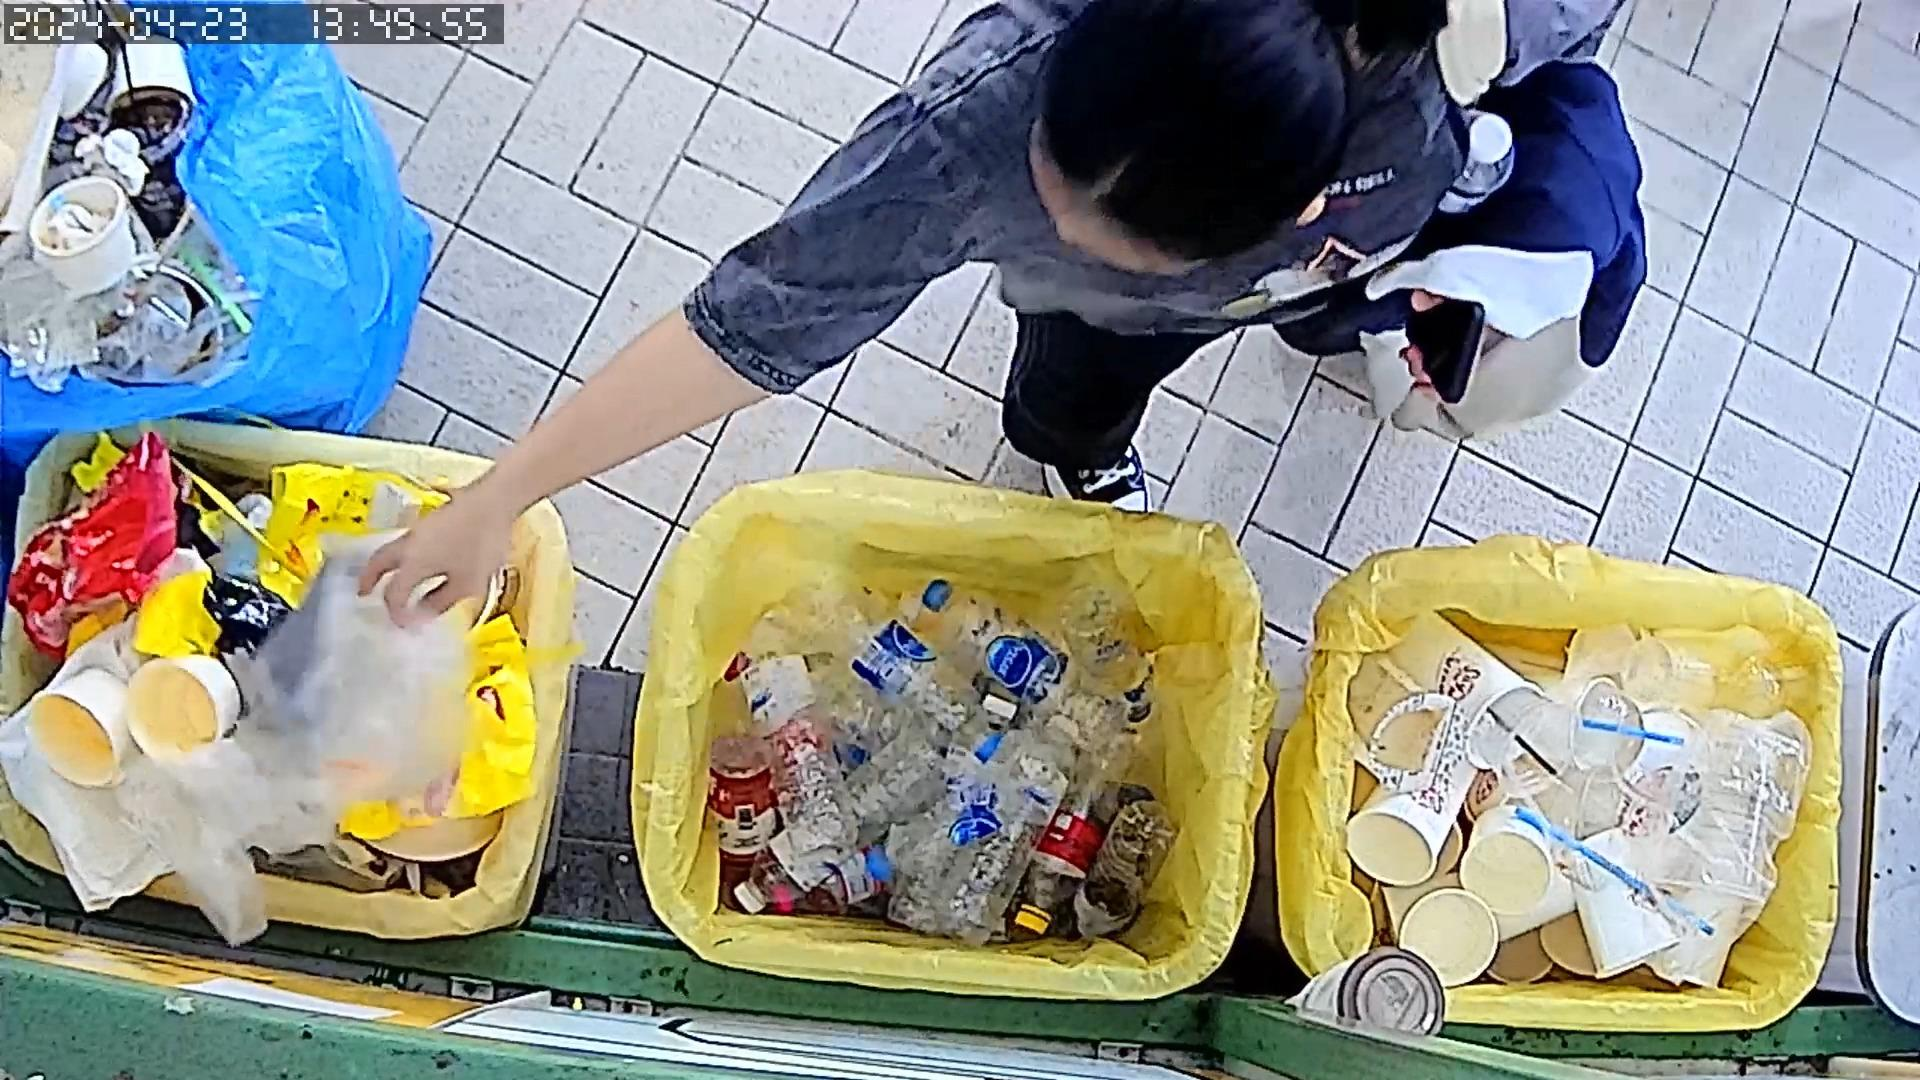can: (711, 736, 771, 861)
filled plastic bag: (236, 583, 483, 829), (1633, 709, 1808, 988)
food container: (29, 663, 149, 791), (145, 658, 272, 770), (1457, 810, 1564, 928), (1387, 884, 1499, 993)
plastic bag: (123, 699, 393, 957)
plastic bottle: (881, 720, 1069, 938), (915, 575, 1129, 753), (725, 737, 935, 918), (833, 600, 1010, 764), (996, 721, 1129, 931), (851, 738, 1079, 829), (1067, 795, 1174, 935), (1060, 583, 1159, 725)
plastic cup: (1340, 649, 1473, 789), (1621, 628, 1787, 713), (1476, 686, 1581, 810), (1487, 773, 1585, 858), (1571, 675, 1643, 787)
snack packaging: (16, 426, 177, 658), (256, 448, 452, 609), (152, 575, 237, 663)
straw: (1523, 825, 1708, 918), (1484, 749, 1560, 843), (1487, 707, 1565, 786), (1577, 713, 1680, 758)
zero waste cup: (1383, 617, 1556, 767), (1555, 815, 1685, 978), (1345, 737, 1468, 887)
